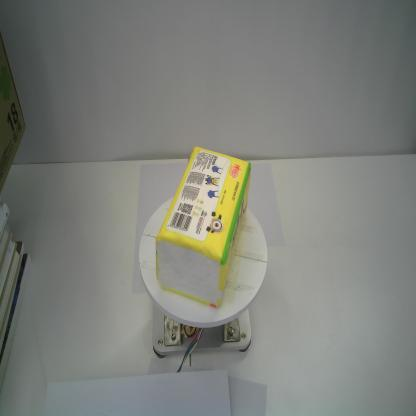Tissue: (155, 145, 252, 309)
